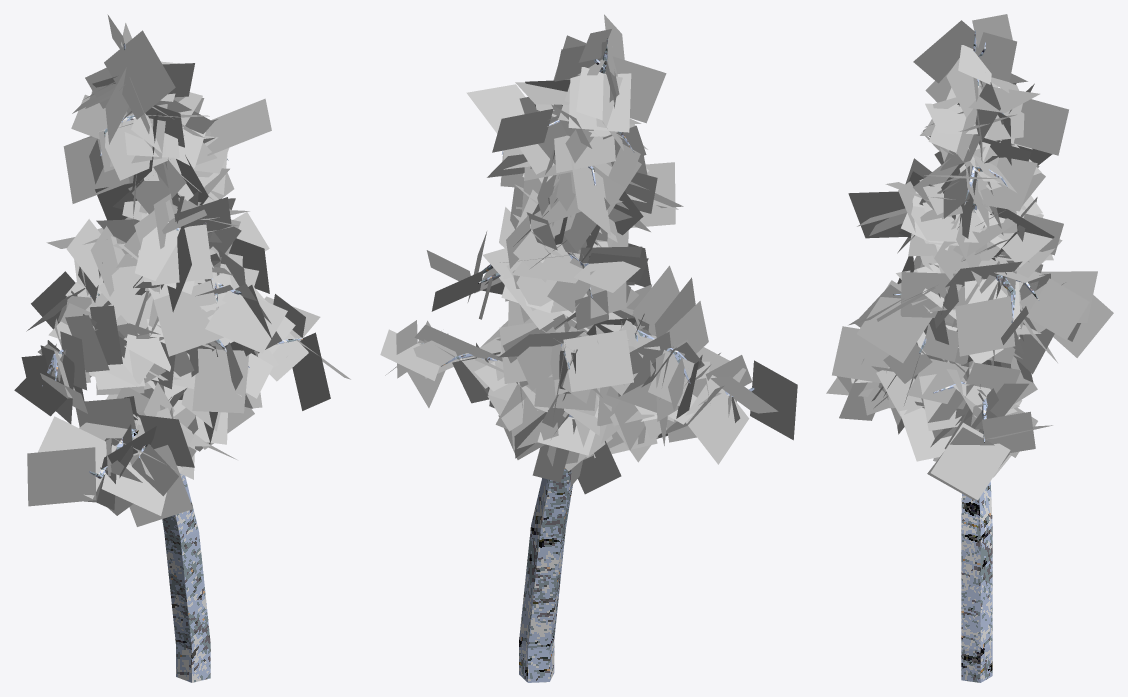
Rendered from birch03.fbx.
3 views of the same model, side by side, from view 1: azimuth 30°, elevation 25°; view 2: azimuth 150°, elevation 25°; view 3: azimuth 270°, elevation 25° (orthographic). The views are drawn at different scales.
Parts seen in each view (by area): view 1: Cylinder.997, Cylinder.996; view 2: Cylinder.997, Cylinder.996; view 3: Cylinder.997, Cylinder.996.
Boxes of the visible parts, left/top/right/bottom form: Cylinder.997: left=14, top=14, right=350, bottom=526; Cylinder.996: left=42, top=43, right=302, bottom=682; Cylinder.997: left=380, top=14, right=797, bottom=494; Cylinder.996: left=418, top=38, right=754, bottom=682; Cylinder.997: left=826, top=14, right=1113, bottom=500; Cylinder.996: left=893, top=30, right=1039, bottom=682.
Size of the model in its own units: 1697 by 2966 by 1229.
